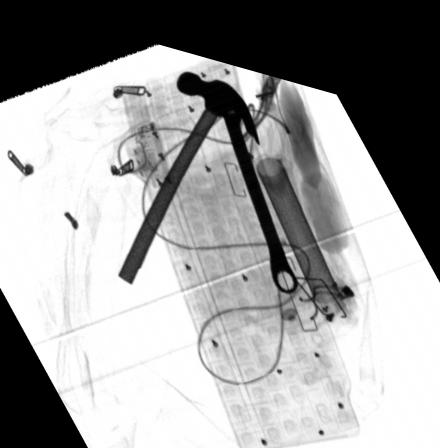Hammer: (114, 60, 260, 277)
Wrench: (217, 83, 298, 277)
